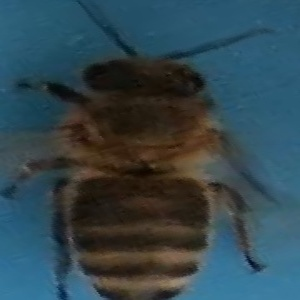bee: (13, 28, 285, 300)
